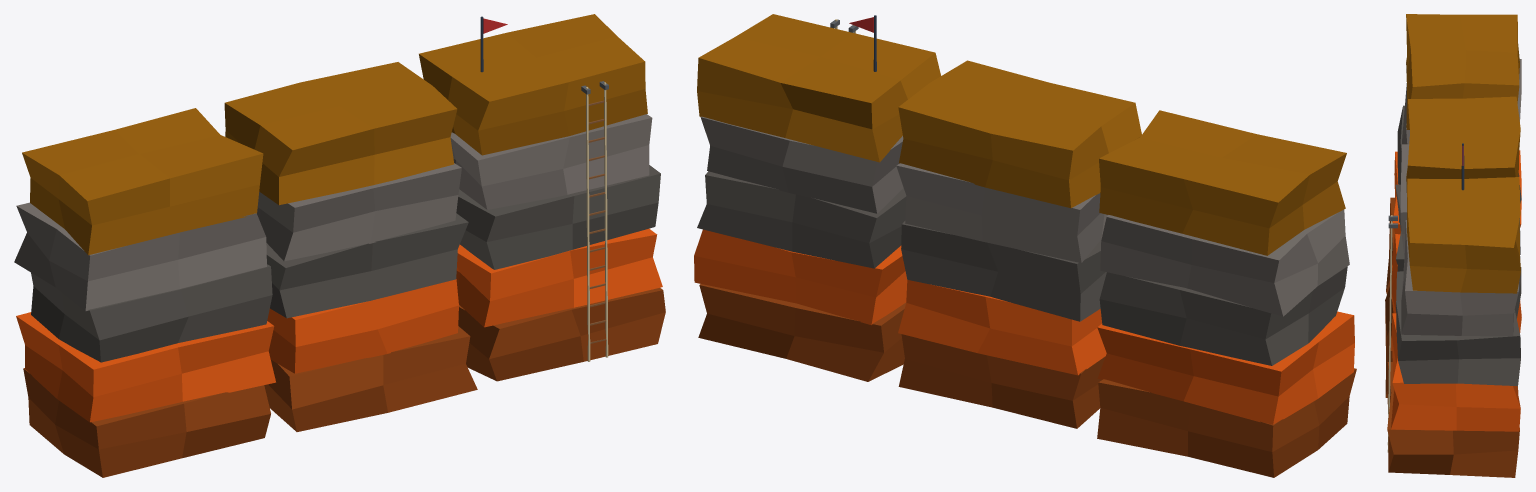
Rendered from tebing_berlapis_v001.glb.
3 renders of one model, left to right at view 1: azimuth 30°, elevation 25°; view 2: azimuth 150°, elevation 25°; view 3: azimuth 270°, elevation 25°, orthographic. The views are drawn at different scales.
Parts seen in each view (by area): view 1: Tebing_Berlapis_A, Tebing_Berlapis_B, Tebing_Berlapis_Tangga; view 2: Tebing_Berlapis_A, Tebing_Berlapis_Tangga, Tebing_Berlapis_B; view 3: Tebing_Berlapis_Tangga, Tebing_Berlapis_A, Tebing_Berlapis_B.
Boxes of the visible parts, x1,y1,x2,y2 form: Tebing_Berlapis_A: (14,108,275,477); Tebing_Berlapis_B: (224,62,477,431); Tebing_Berlapis_Tangga: (419,14,665,381); Tebing_Berlapis_A: (1097,110,1356,477); Tebing_Berlapis_Tangga: (694,14,940,381); Tebing_Berlapis_B: (896,60,1141,428); Tebing_Berlapis_Tangga: (1387,143,1521,477); Tebing_Berlapis_A: (1386,14,1521,293); Tebing_Berlapis_B: (1385,96,1521,397).
Size of the model in its own units: 17.71 by 9.63 by 4.32.
